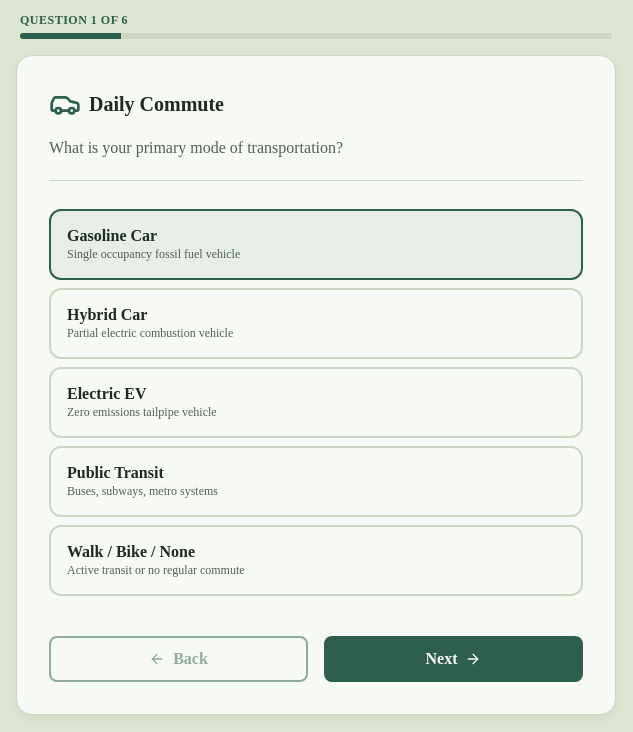
Test: Assessment Page Integration & Accessibility › should skip Commute Distance step if "Walk / Bike / None" transportation is selected
// Select Walk / Bike / None
Step 1. Click the radio button labelled "Walk / Bike / None Active transit or no regular commute" → (131, 552), box [49,525,583,596]
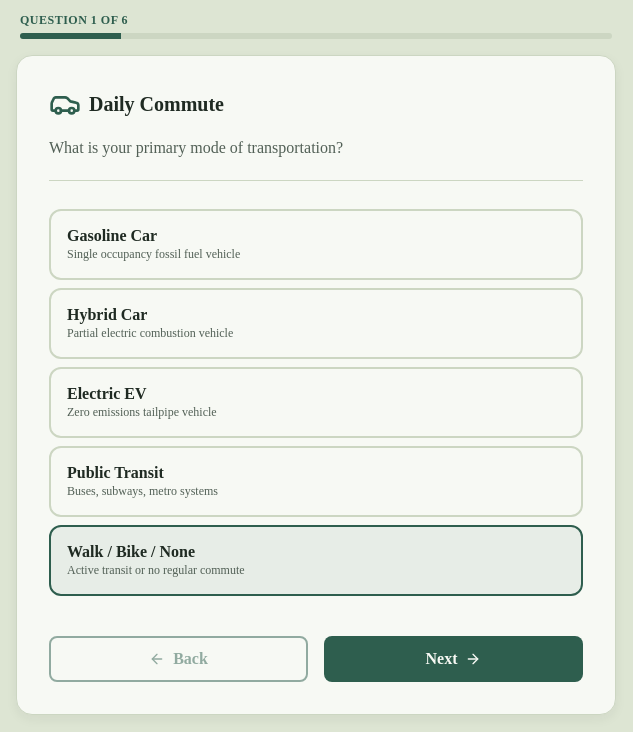
Step 2. Click the button "Next" → (454, 659), box [324,636,583,682]
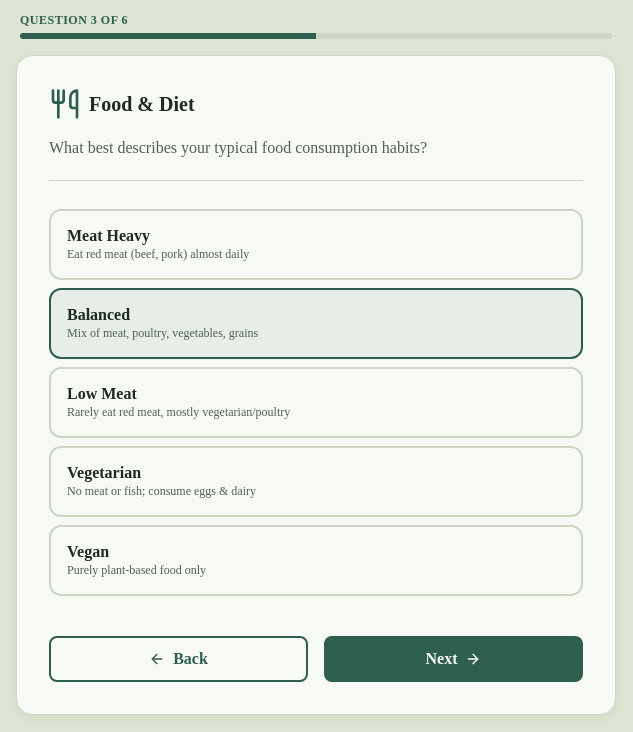
Result: the text "What best describes your typical food consumption habits?" is shown at [49,139,427,156]
